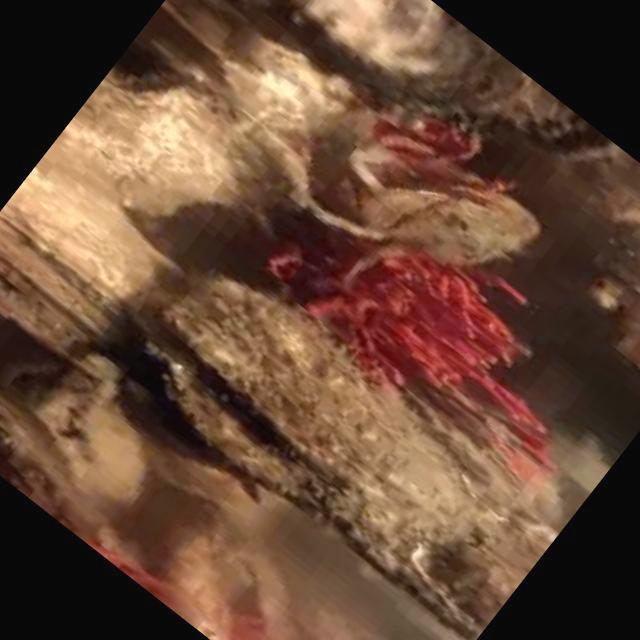Oyster-Closed: (251, 0, 571, 119)
Oyster-Open: (140, 274, 516, 632), (535, 108, 630, 169)
